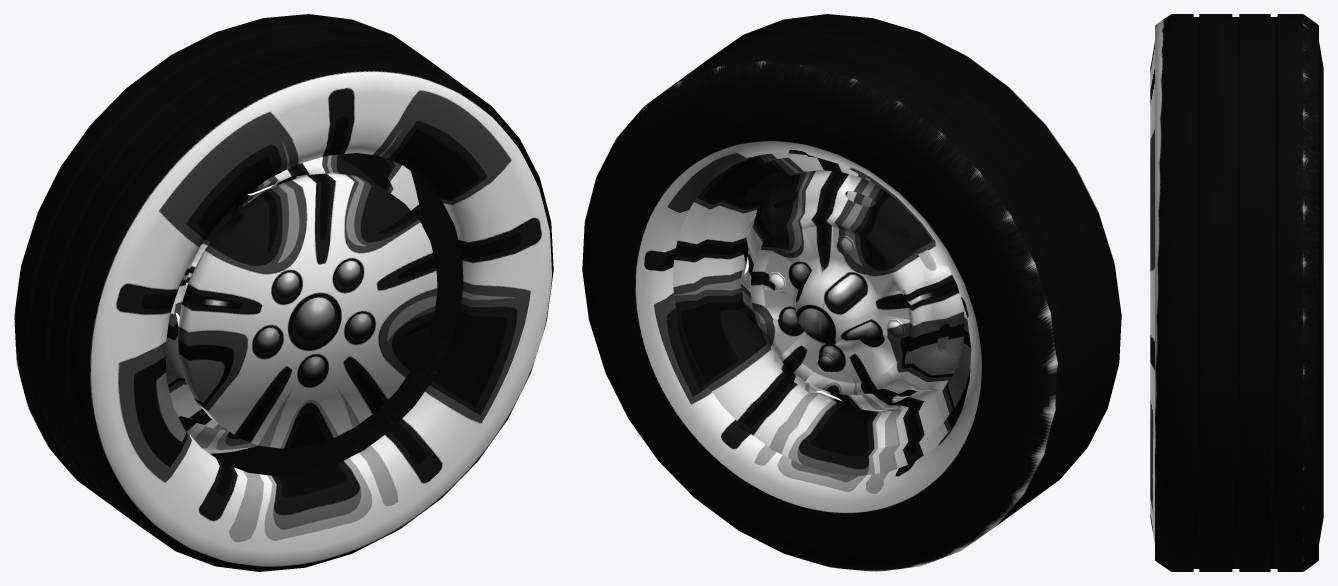
File: llanta_t_atras.obj
The picture shows the model from 3 angles, left to right: view 1: azimuth 30°, elevation 25°; view 2: azimuth 150°, elevation 25°; view 3: azimuth 270°, elevation 25°; orthographic projection. The views are drawn at different scales.
Parts seen in each view (by area): view 1: llanta_d_atras; view 2: llanta_d_atras; view 3: llanta_d_atras.
Part boxes in pixels (left/top/right/bottom): llanta_d_atras: left=14, top=14, right=553, bottom=571; llanta_d_atras: left=582, top=14, right=1121, bottom=571; llanta_d_atras: left=1150, top=14, right=1323, bottom=571.
Bounding box in the file's own units: 0.5393 × 0.5393 × 0.1672.
1 material, 1 textured.
